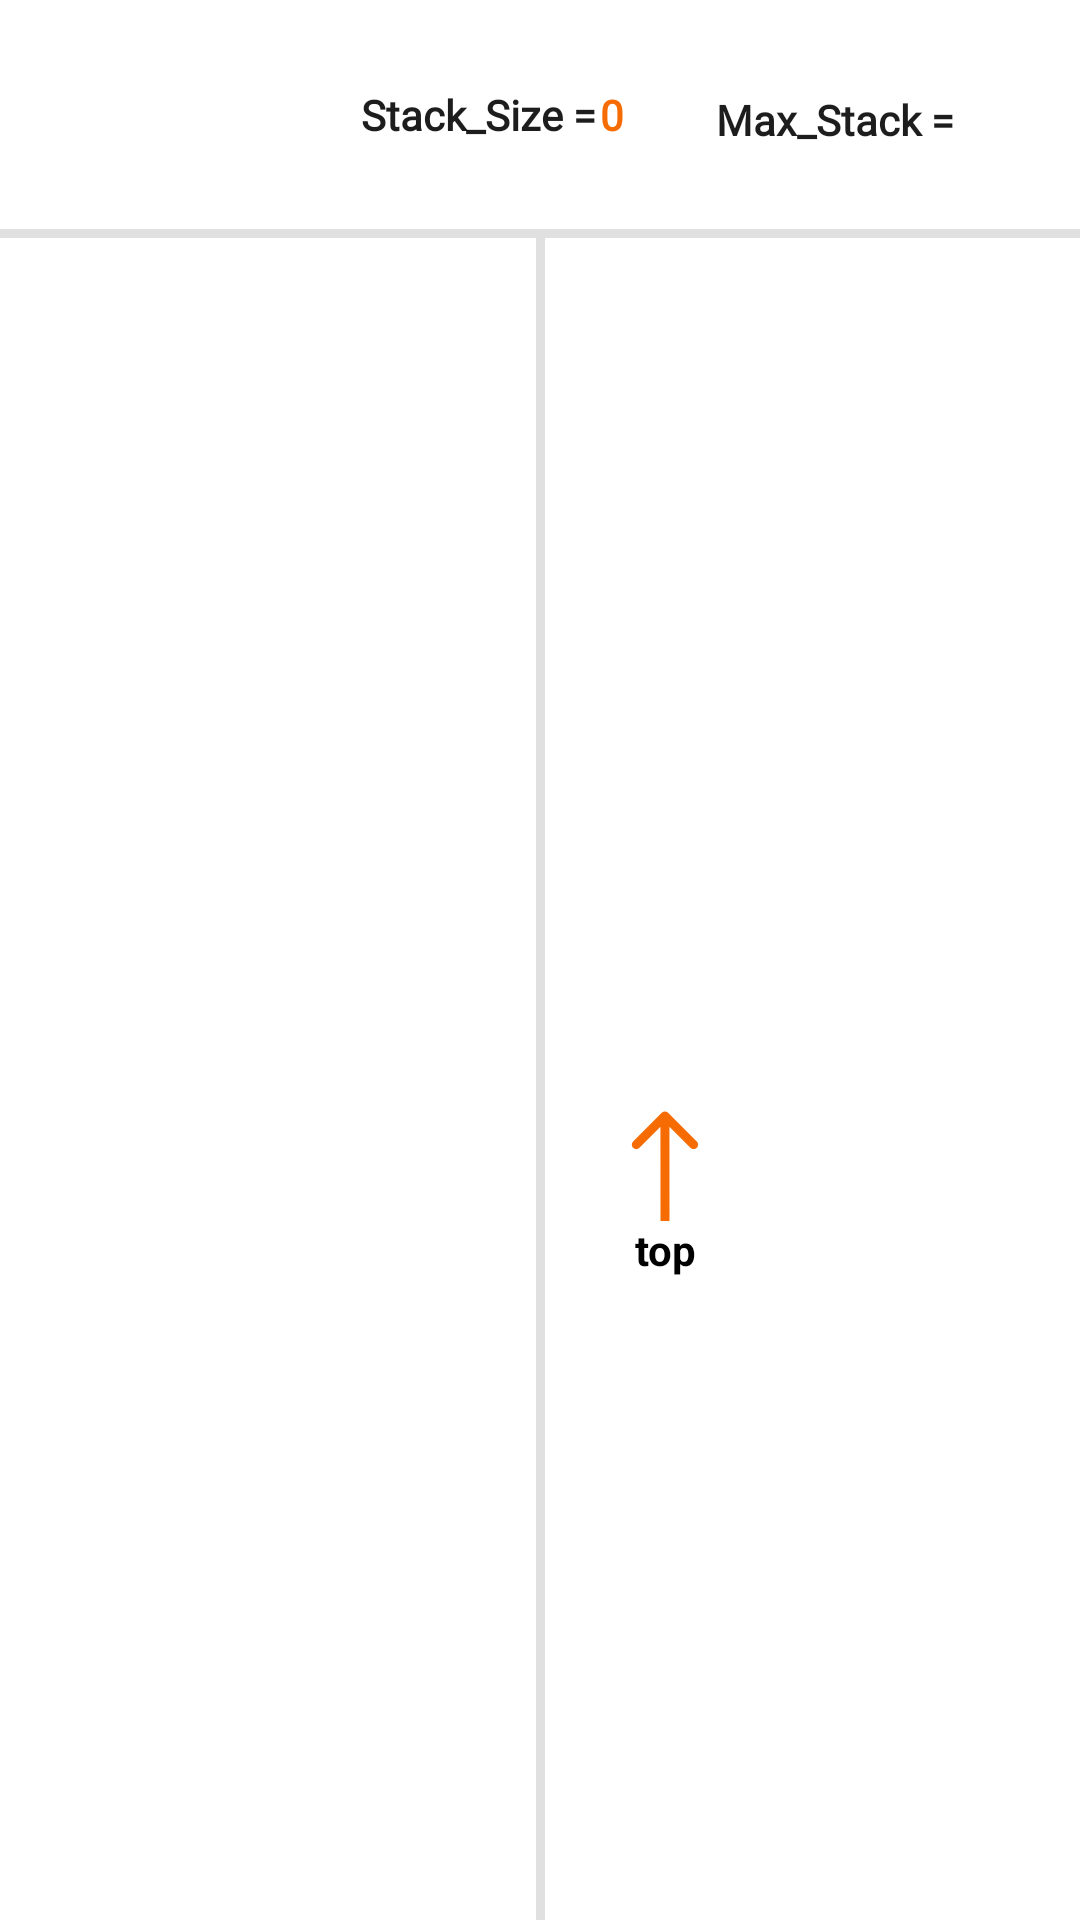

Where to tap for icons on this 1080px×1920px app screen, as point (x, y):
arrow up: point (664, 1166)
